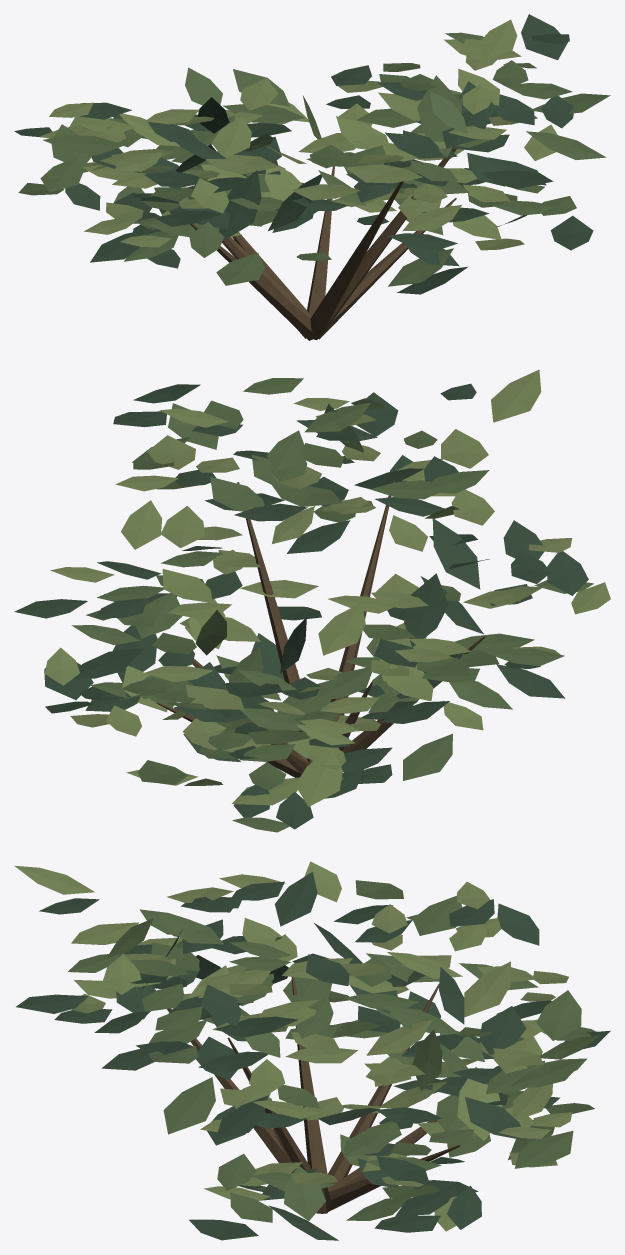
The model's file is NA_Shrub_3.glb.
3 renders of one model, top to bottom at view 1: azimuth 30°, elevation 25°; view 2: azimuth 150°, elevation 25°; view 3: azimuth 270°, elevation 25°, orthographic. The views are drawn at different scales.
Visible parts, largest first — view 1: NA_Shrub_3; view 2: NA_Shrub_3; view 3: NA_Shrub_3.
Boxes of the visible parts, x1,y1,x2,y2 form: NA_Shrub_3: (14,14,610,340); NA_Shrub_3: (14,370,610,832); NA_Shrub_3: (14,861,610,1240).
Bounding box in the file's own units: 1.31 × 0.7603 × 1.3.
4 materials, 1 textured.
